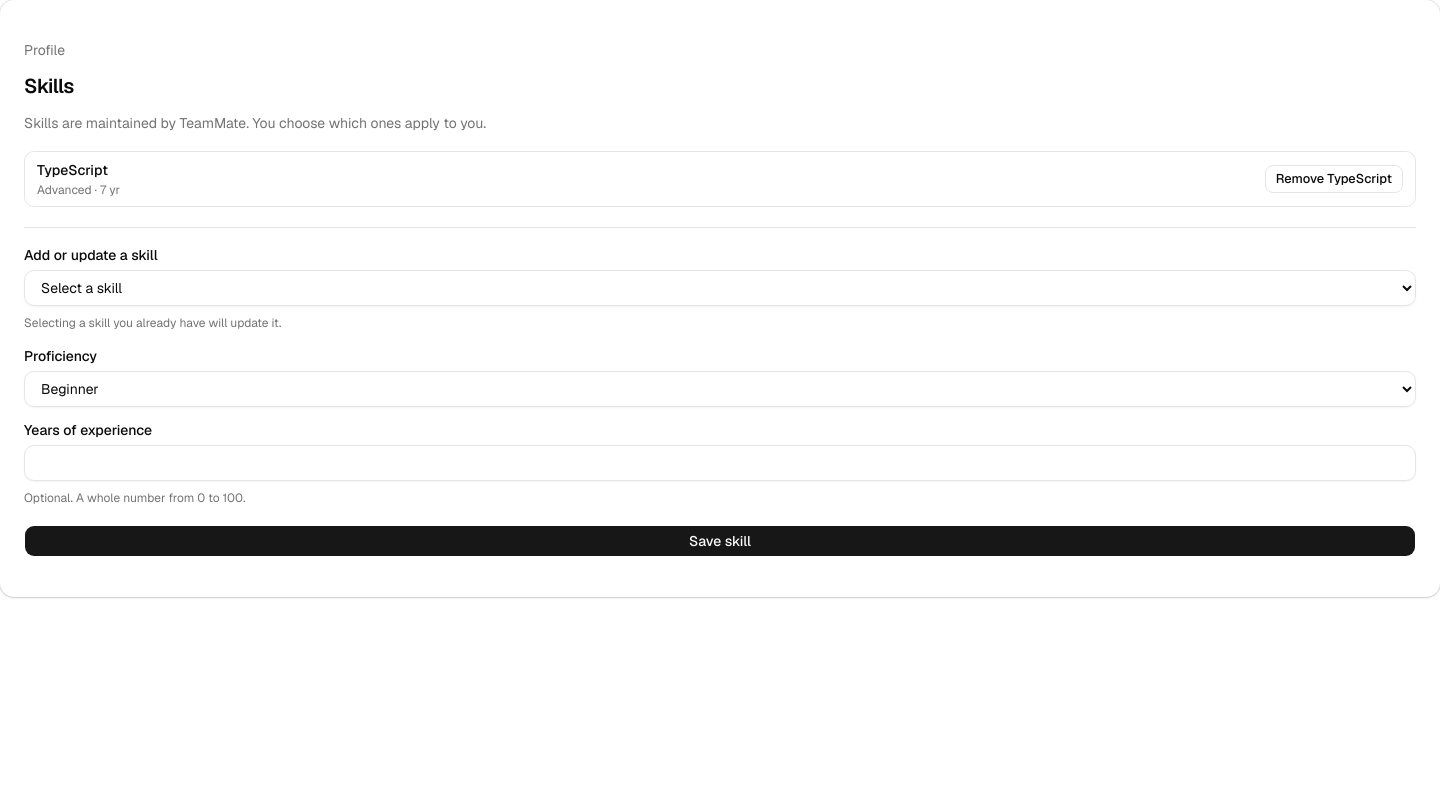
Scenario: skills section › reports an update when the saved skill was already assigned
Select "TypeScript" in the dropdown labelled "Add or update a skill" at (720, 288), box [24,270,1416,306]
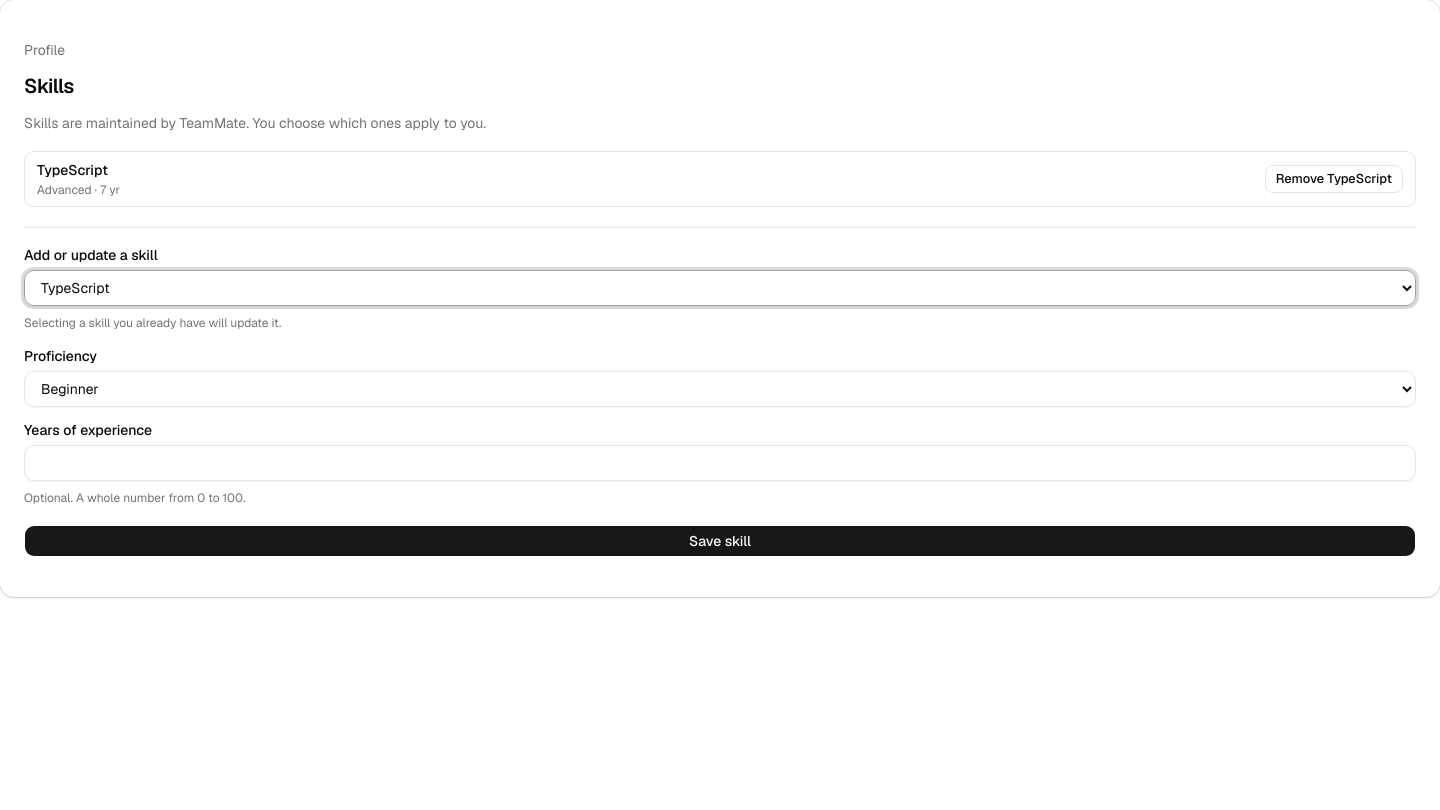
Select "Expert" in the dropdown labelled "Proficiency" at (720, 389), box [24,371,1416,407]
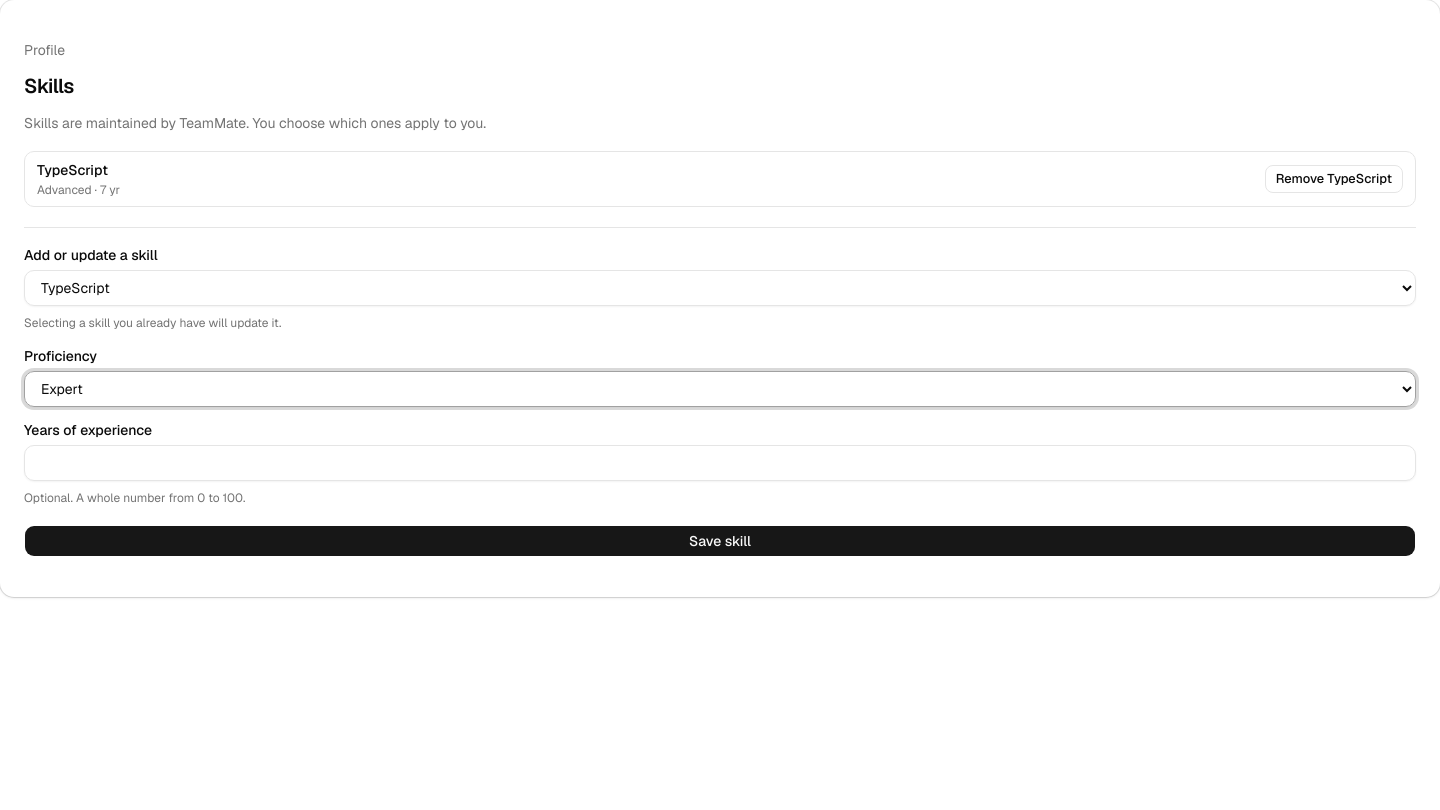
Click the button "Save skill" at (720, 541), box [24,525,1416,557]
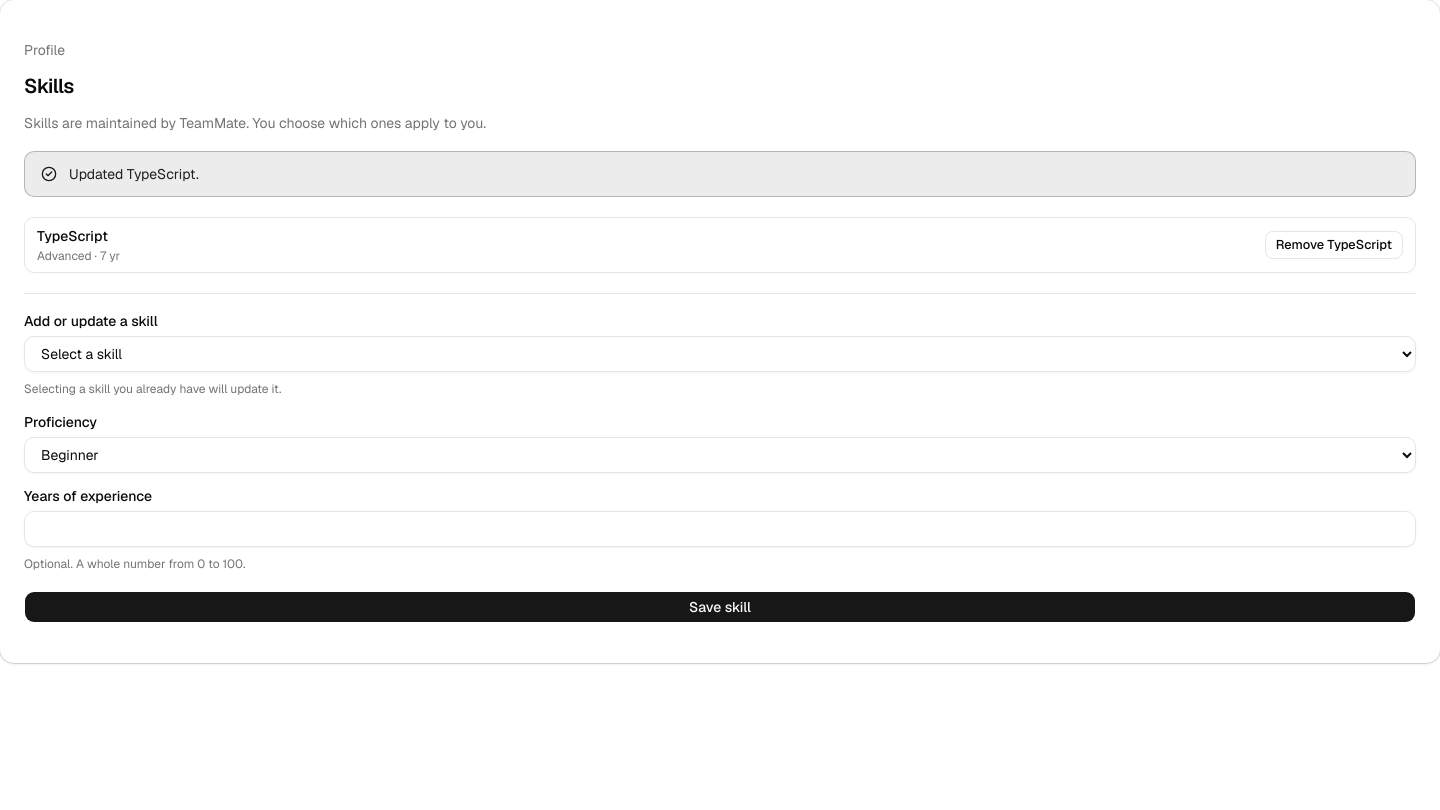
Result: the text "Updated TypeScript." is shown at [69,165,199,183]
